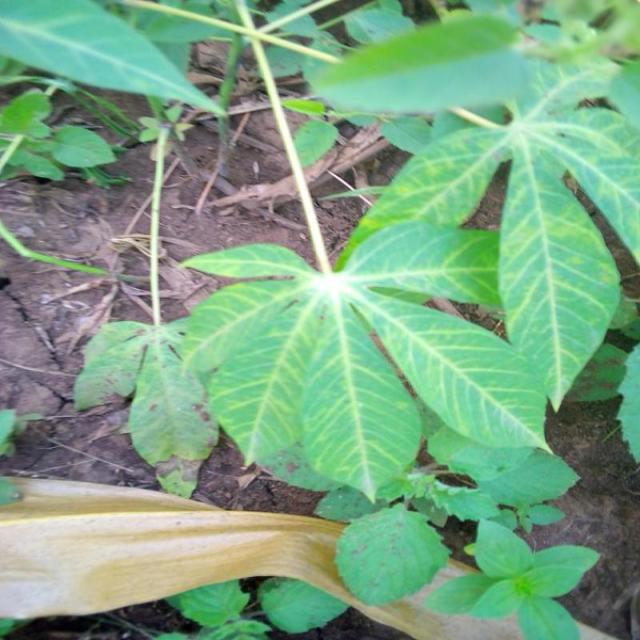cassava leaf: (497, 138, 622, 412), (1, 0, 228, 119), (303, 10, 529, 119)
